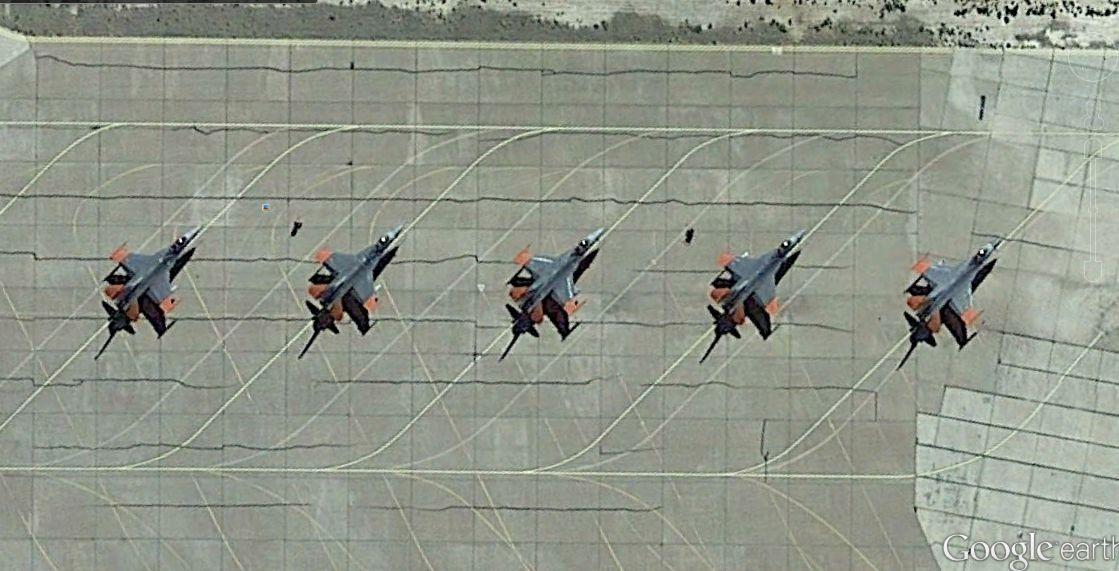F-16: (295, 223, 417, 337), (696, 230, 812, 339), (896, 234, 1002, 347), (98, 225, 203, 333), (504, 228, 609, 336)
